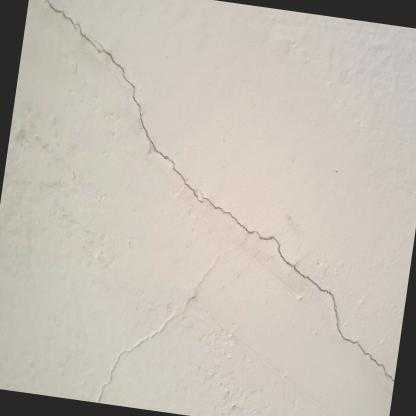crack: (199, 192, 394, 383), (47, 0, 202, 201)
